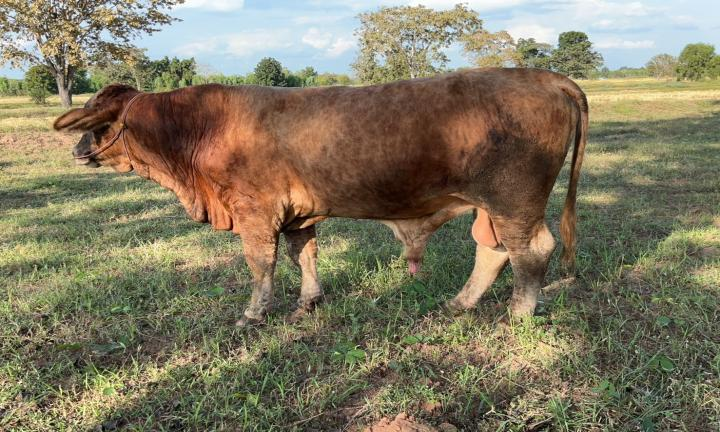Charolais: (53, 68, 588, 324)
